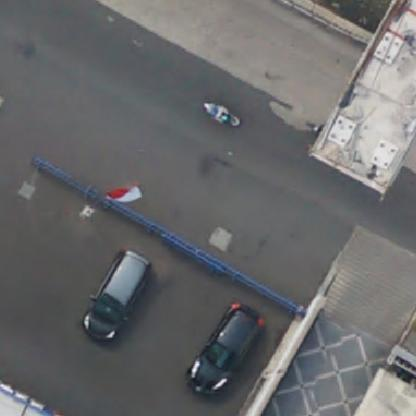car: (178, 306, 261, 389), (83, 250, 149, 345)
motorcycle: (207, 97, 241, 133)
